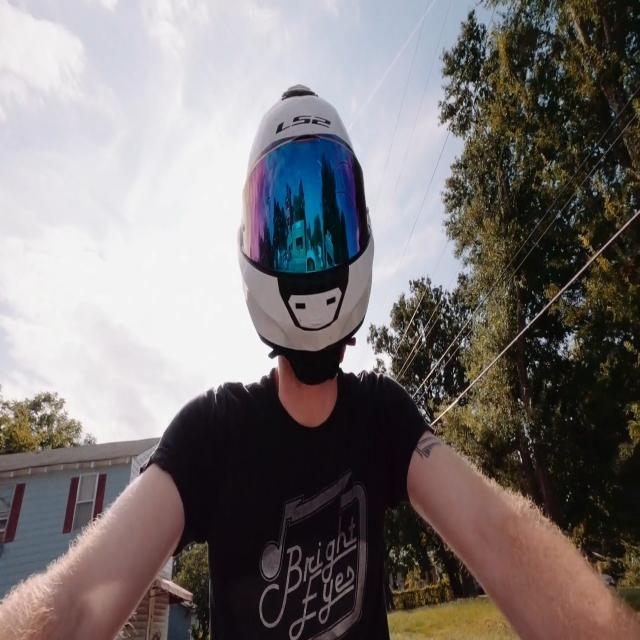Helmet_Wearer: (232, 79, 374, 421)
Person: (8, 86, 640, 640)
